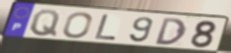8: (189, 19, 219, 49)
9: (128, 16, 154, 43)
D: (154, 17, 188, 46)
L: (93, 14, 118, 41)
O: (62, 11, 94, 39)
Q: (28, 8, 62, 38)
